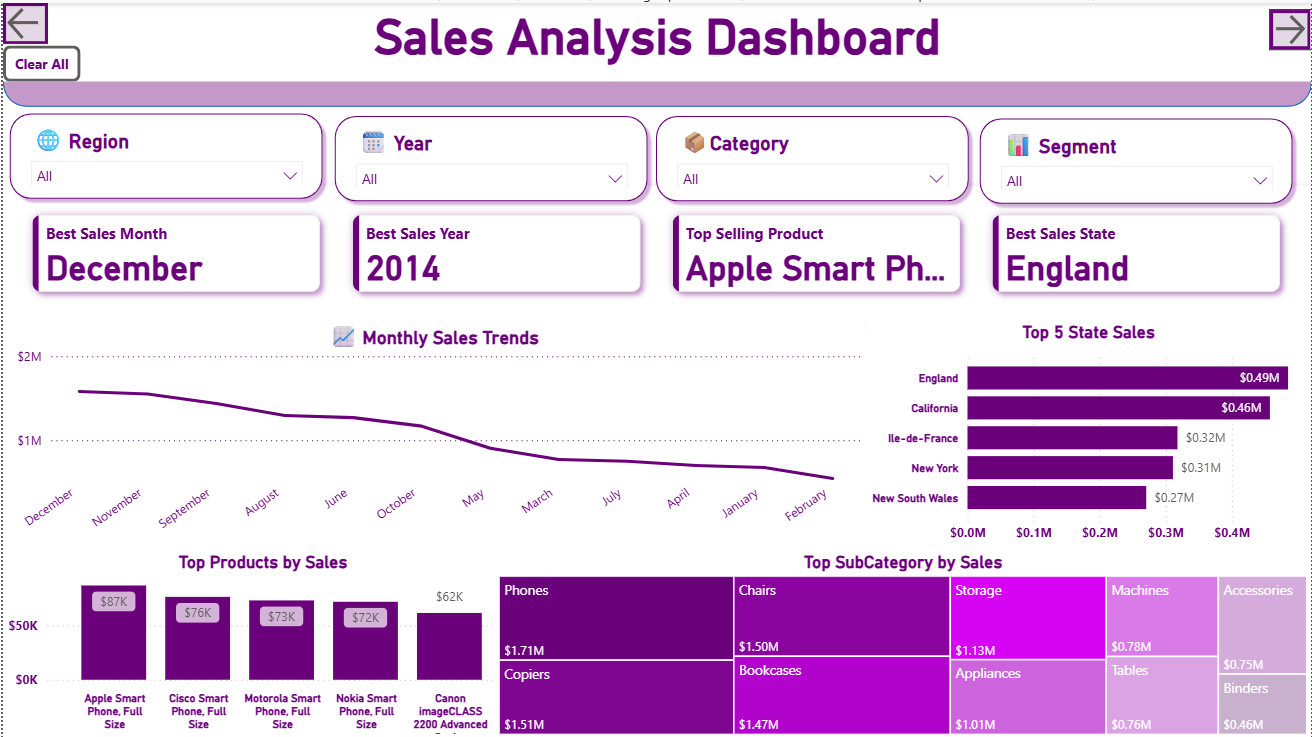

The page's visual inventory and layout, read from the dashboard file:
{"tool":"powerbi","page":{"name":"Page 2","canvas":[1280,720],"ordinal":1},"visuals":[{"type":"shape","box":[0,10,1280.3,91.7],"z":0},{"type":"textbox","box":[0,0,1280.3,77],"z":1000},{"type":"cardVisual","fields":{"Data":["superstore_cleaned.Best Sales Month","superstore_cleaned.Best Year","superstore_cleaned.Top Selling Product","superstore_cleaned.Best Sales State"]},"box":[0,178.5,1280.3,133.3],"z":2000},{"type":"lineChart","title":"📈 Monthly Sales Trends","fields":{"Y":["Sum(superstore_cleaned.sales)"],"Category":["superstore_cleaned.month"]},"box":[0,311.8,843.8,225],"z":3000},{"type":"clusteredBarChart","title":"Top 5 State Sales","fields":{"Y":["Sum(superstore_cleaned.sales)"],"Category":["superstore_cleaned.state"]},"box":[843.8,311.8,436.6,225],"z":4000},{"type":"lineClusteredColumnComboChart","title":"Top Products by Sales","fields":{"Category":["superstore_cleaned.product_name"],"Y":["Sum(superstore_cleaned.sales)"]},"box":[0,536.8,508.7,183.4],"z":5000},{"type":"treemap","title":"Top SubCategory by Sales","fields":{"Values":["Sum(superstore_cleaned.sales)"],"Group":["superstore_cleaned.sub_category"]},"box":[480.3,536.5,800,183.9],"z":6000},{"type":"shape","box":[0,101.5,319.2,96.6],"z":7000},{"type":"slicer","fields":{"Values":["superstore_cleaned.region"]},"box":[17.1,113.7,286.1,64.8],"z":8000},{"type":"shape","box":[318.2,103.7,319.2,96.6],"z":9000},{"type":"slicer","fields":{"Values":["superstore_cleaned.year"]},"box":[335.3,115.9,286.1,64.8],"z":10000},{"type":"shape","box":[632.2,103.7,319.2,96.6],"z":11000},{"type":"slicer","fields":{"Values":["superstore_cleaned.category"]},"box":[649.3,115.9,286.1,64.8],"z":12000},{"type":"shape","box":[949.1,106.6,319.2,96.6],"z":13000},{"type":"slicer","fields":{"Values":["superstore_cleaned.segment"]},"box":[966.3,118.8,286.1,64.8],"z":14000},{"type":"actionButton","box":[0,41.6,75.8,35.5],"z":15000},{"type":"actionButton","box":[1238.4,6.1,41.6,40.4],"z":16000},{"type":"actionButton","box":[0,0,44,40.4],"z":17000}]}

Visuals, with their boxes in screenshot pixels (x1, y1, x2, y2), scaled from the page's 1280x720 canvas onto the 1312x737 screenshot:
shape: <region>0, 10, 1311, 104</region>
textbox: <region>0, 0, 1311, 79</region>
cardVisual - superstore_cleaned.Best Sales Month x superstore_cleaned.Best Year: <region>0, 183, 1311, 319</region>
"📈 Monthly Sales Trends" lineChart: <region>0, 319, 865, 549</region>
"Top 5 State Sales" clusteredBarChart: <region>865, 319, 1311, 549</region>
"Top Products by Sales" lineClusteredColumnComboChart: <region>0, 549, 521, 736</region>
"Top SubCategory by Sales" treemap: <region>492, 549, 1311, 736</region>
shape: <region>0, 104, 327, 203</region>
slicer - superstore_cleaned.region: <region>18, 116, 311, 183</region>
shape: <region>326, 106, 653, 205</region>
slicer - superstore_cleaned.year: <region>344, 119, 637, 185</region>
shape: <region>648, 106, 975, 205</region>
slicer - superstore_cleaned.category: <region>666, 119, 959, 185</region>
shape: <region>973, 109, 1300, 208</region>
slicer - superstore_cleaned.segment: <region>990, 122, 1284, 188</region>
actionButton: <region>0, 43, 78, 79</region>
actionButton: <region>1269, 6, 1311, 48</region>
actionButton: <region>0, 0, 45, 41</region>
